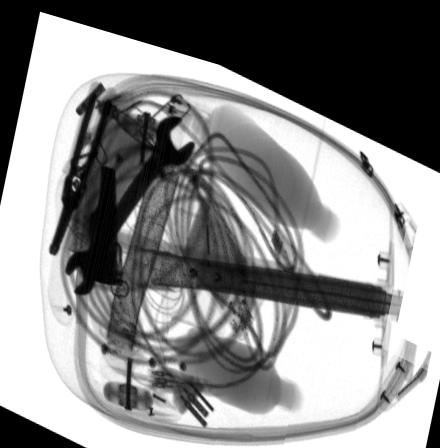Hammer: (87, 157, 345, 280)
Pliers: (43, 83, 114, 255)
Powerbank: (178, 190, 270, 327)
Wrench: (64, 103, 195, 291)
